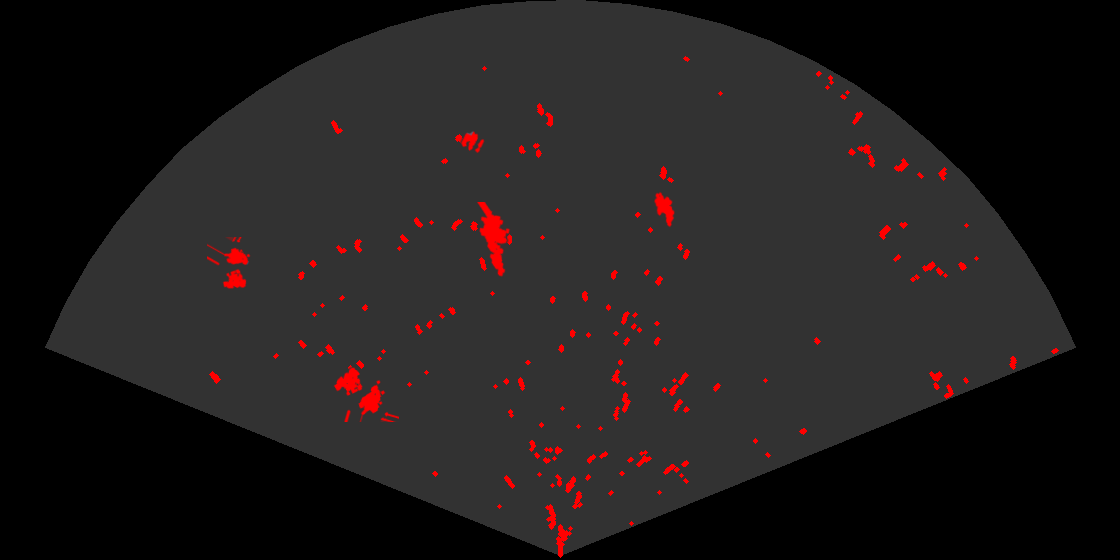AUV: (653, 190, 676, 229)
ball: (459, 130, 486, 155)
cage: (332, 366, 399, 422), (207, 237, 252, 291)
frogman: (476, 202, 512, 278)
